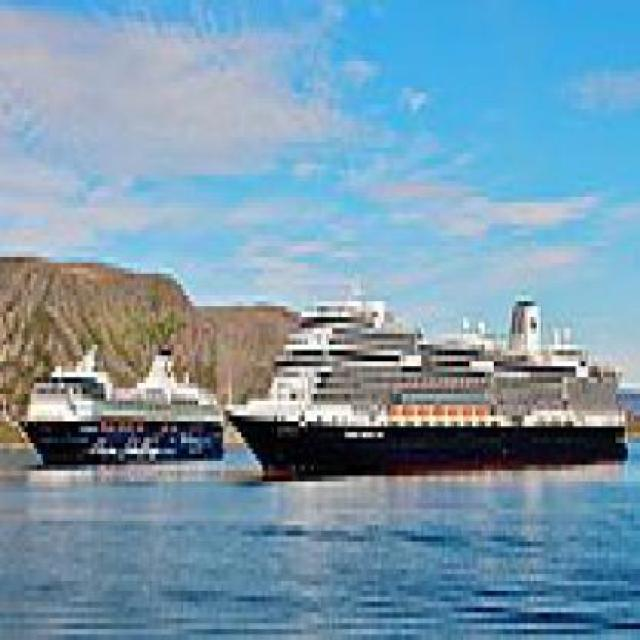cruise: (223, 258, 639, 510), (10, 307, 239, 483)
